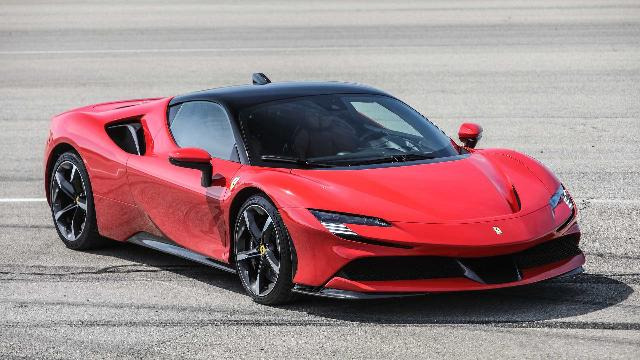ferrari: (43, 72, 585, 302)
